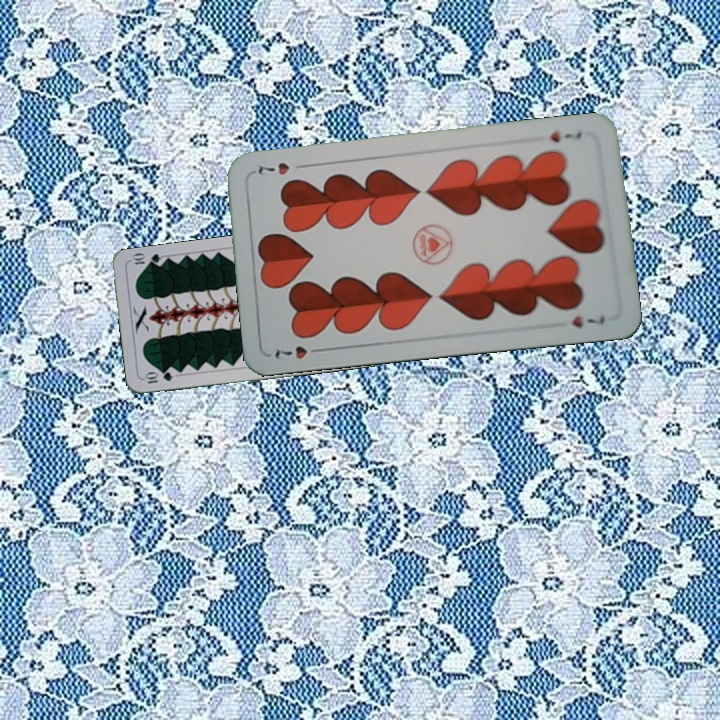G10: (141, 368, 175, 386)
H7: (271, 342, 327, 362), (546, 127, 584, 145)
